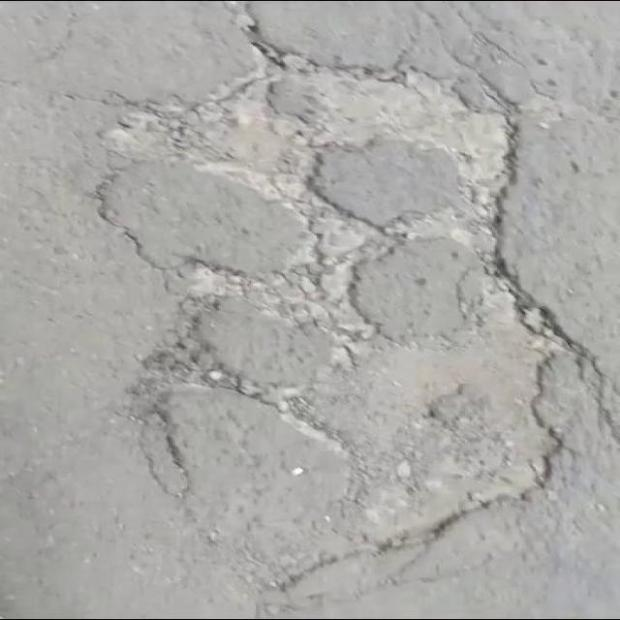lubang: (101, 46, 619, 599)
